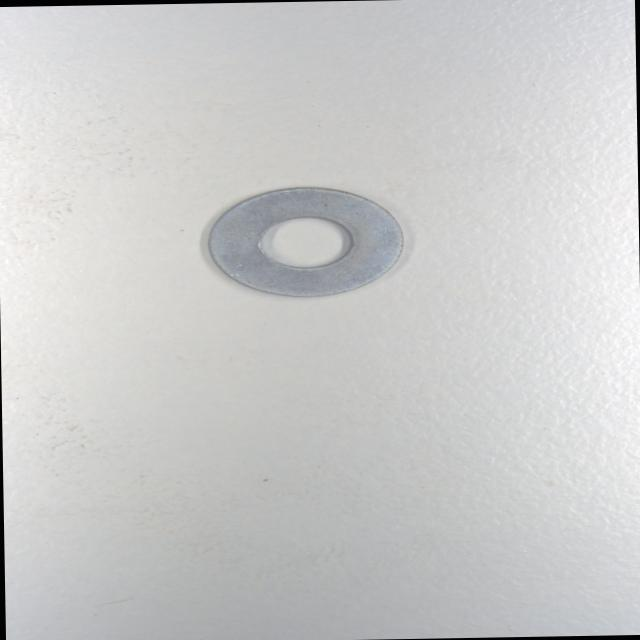washer: (203, 183, 407, 299)
